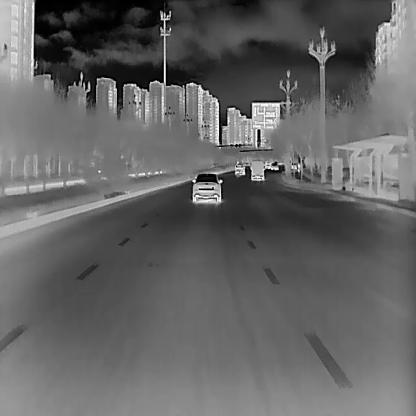car: (190, 172, 223, 202), (249, 158, 265, 178), (233, 159, 245, 174), (270, 162, 278, 170)
